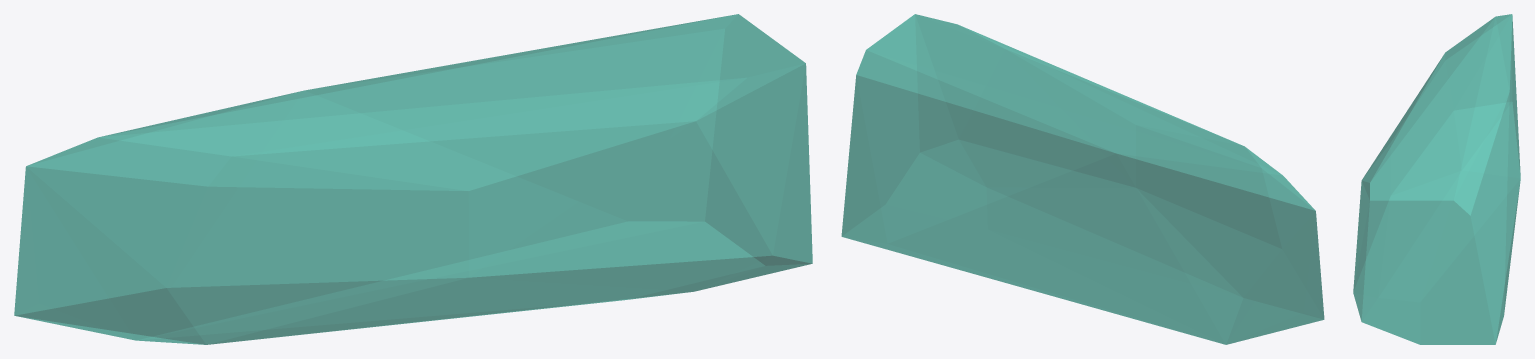
3 renders of one model, left to right at view 1: azimuth 30°, elevation 25°; view 2: azimuth 150°, elevation 25°; view 3: azimuth 270°, elevation 25°, orthographic. The views are drawn at different scales.
Visible parts, largest first — view 1: Shape_IndexedFaceSet.016_Shape_IndexedFaceSet.7642; view 2: Shape_IndexedFaceSet.016_Shape_IndexedFaceSet.7642; view 3: Shape_IndexedFaceSet.016_Shape_IndexedFaceSet.7642.
Boxes of the visible parts, <box> form: Shape_IndexedFaceSet.016_Shape_IndexedFaceSet.7642: <box>14,14,812,344</box>; Shape_IndexedFaceSet.016_Shape_IndexedFaceSet.7642: <box>841,14,1324,344</box>; Shape_IndexedFaceSet.016_Shape_IndexedFaceSet.7642: <box>1353,14,1520,344</box>.
Size of the model in its own units: 0.4876 by 0.1597 by 0.1681.
